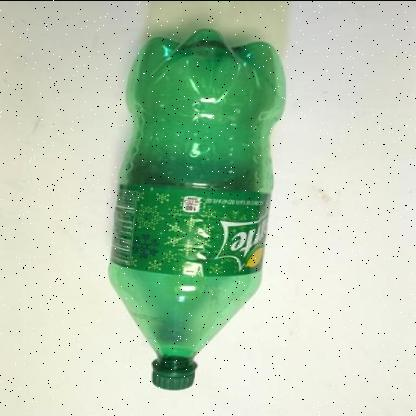Plastic Bottle: (104, 26, 293, 394)
